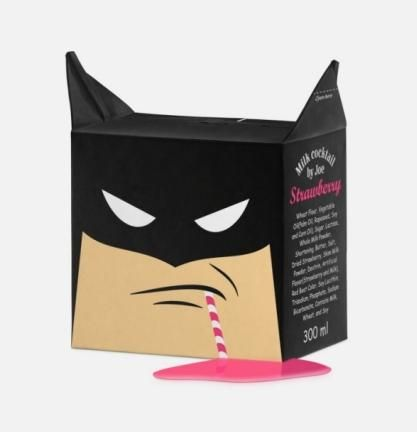carton: (39, 37, 400, 391)
